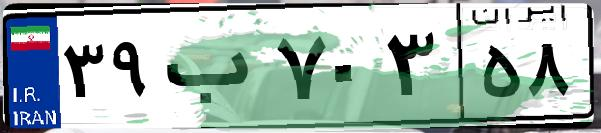0: (330, 28, 385, 110)
3: (385, 28, 445, 110), (57, 26, 110, 100)
5: (475, 38, 525, 113)
7: (270, 28, 330, 110)
8: (525, 38, 570, 115)
9: (110, 28, 158, 98)
ب: (158, 20, 270, 120)
